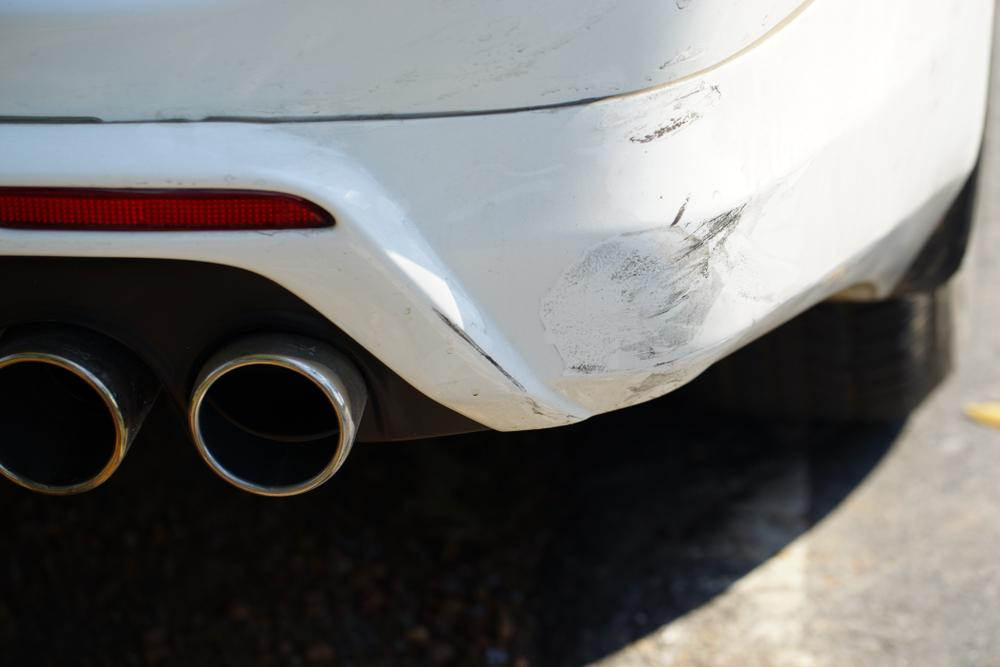scratch: (536, 166, 797, 406), (628, 84, 727, 148)
